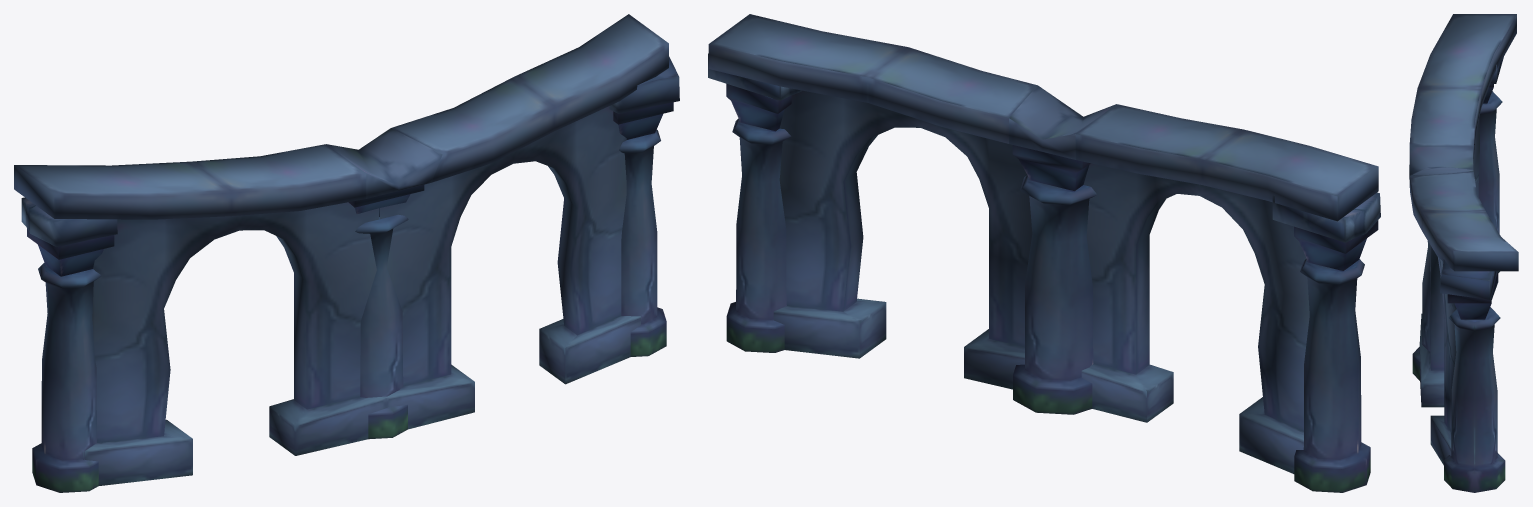
The model's file is mesh_Iz_dun_stone_15.FBX.
The picture shows the model from 3 angles, left to right: view 1: azimuth 30°, elevation 25°; view 2: azimuth 150°, elevation 25°; view 3: azimuth 270°, elevation 25°; orthographic projection. The views are drawn at different scales.
Parts seen in each view (by area): view 1: mesh_Iz_dun_stone_15; view 2: mesh_Iz_dun_stone_15; view 3: mesh_Iz_dun_stone_15.
Boxes of the visible parts, x1,y1,x2,y2 form: mesh_Iz_dun_stone_15: [14, 14, 679, 492]; mesh_Iz_dun_stone_15: [708, 14, 1380, 492]; mesh_Iz_dun_stone_15: [1409, 14, 1518, 492].
Bounding box in the file's own units: 1225 × 550 × 228.
